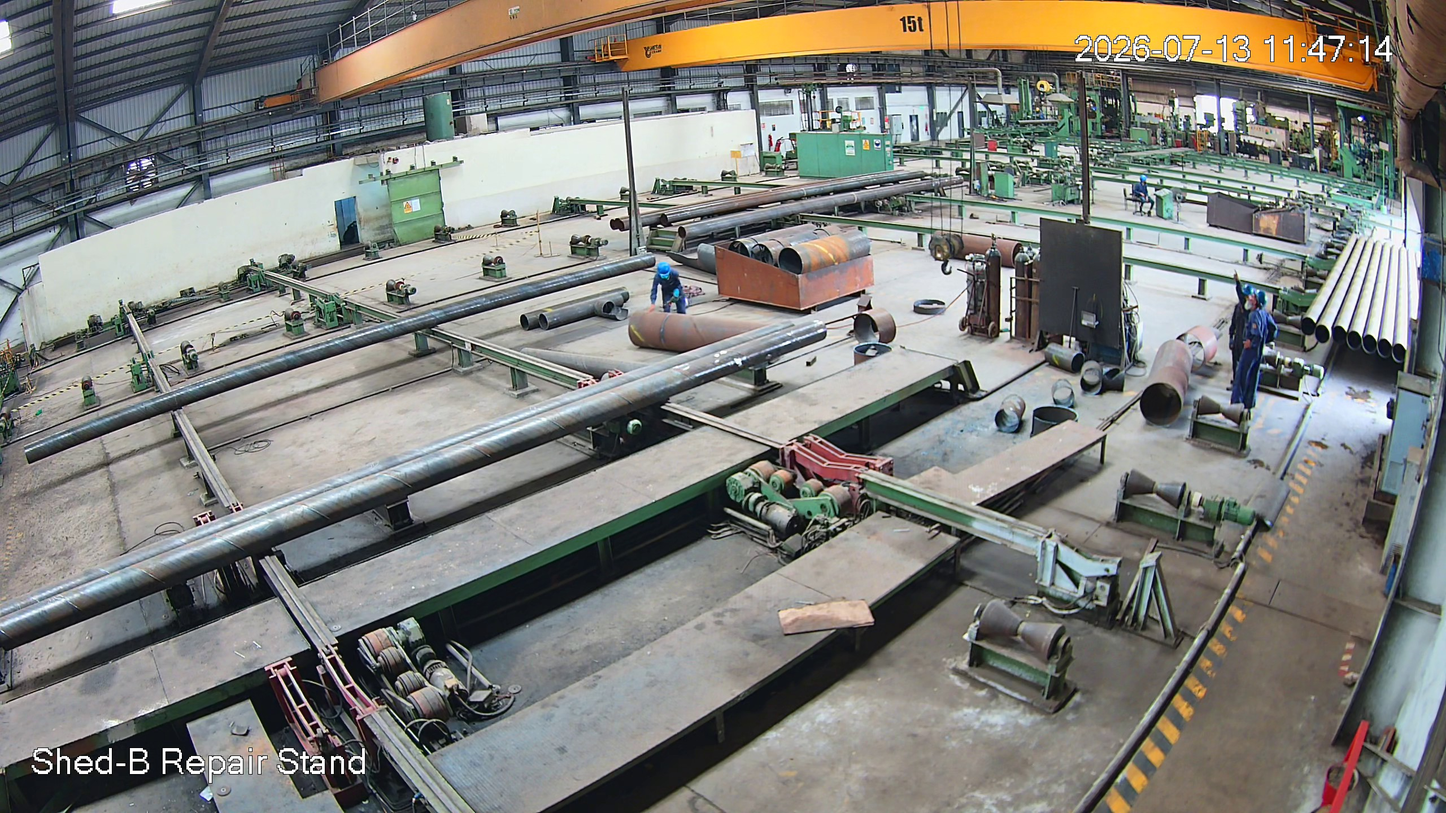Helmet: (1244, 288, 1269, 317), (654, 261, 677, 283)
Person: (1234, 291, 1270, 410), (651, 264, 688, 318)
